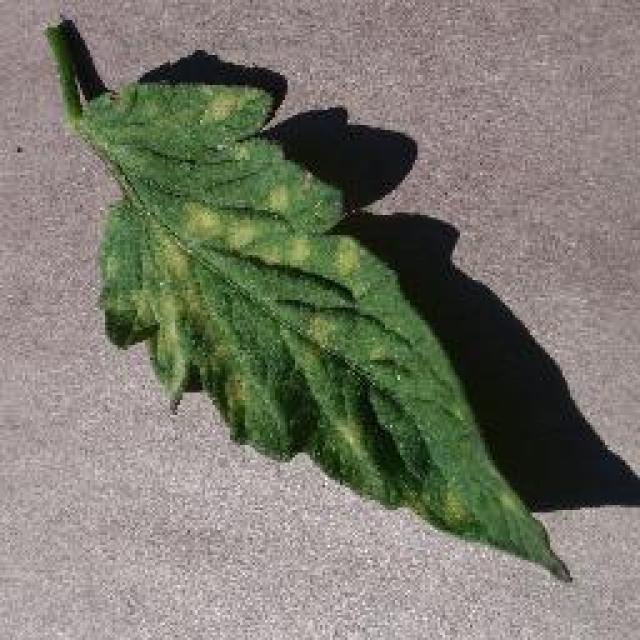Tomato___Leaf_Mold: (41, 26, 562, 572)
